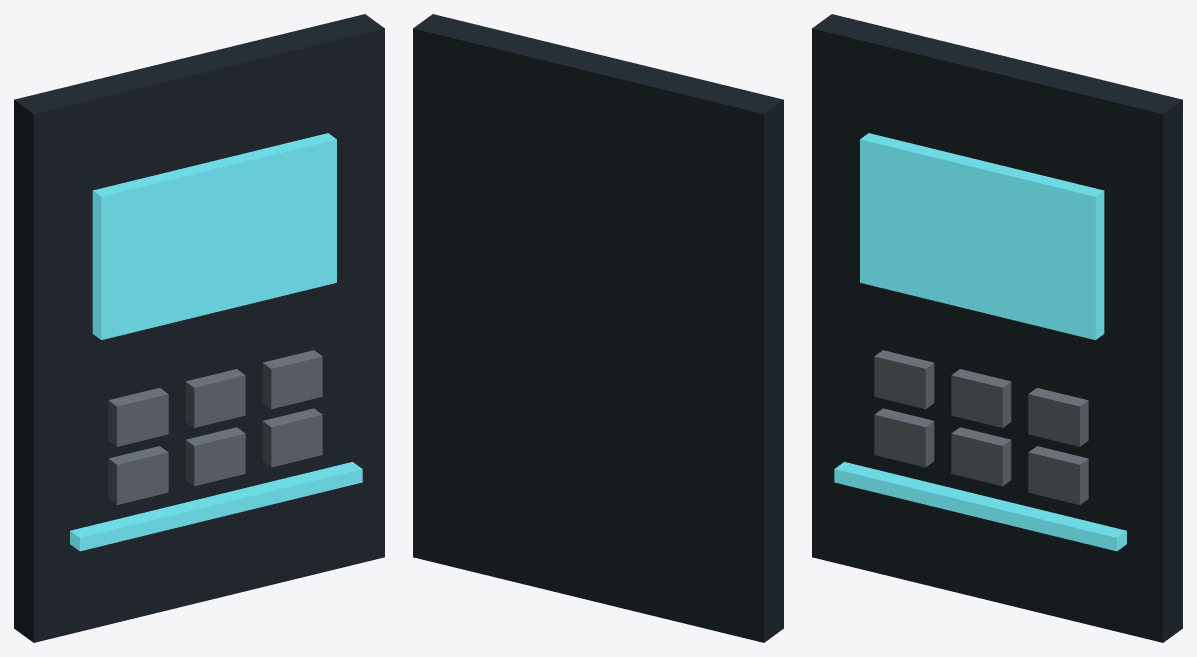
Rendered from hp_terminal_quiz_panel_cyan.glb.
3 renders of one model, left to right at view 1: azimuth 30°, elevation 25°; view 2: azimuth 150°, elevation 25°; view 3: azimuth 330°, elevation 25°, orthographic.
Visible parts, largest first — view 1: quiz_panel_backplate, quiz_panel_screen, quiz_panel_warning_rail, quiz_panel_input_1_1, quiz_panel_input_0_0, quiz_panel_input_0_1, quiz_panel_input_0_2, quiz_panel_input_1_2, quiz_panel_input_1_0; view 2: quiz_panel_backplate; view 3: quiz_panel_backplate, quiz_panel_screen, quiz_panel_warning_rail, quiz_panel_input_1_1, quiz_panel_input_0_0, quiz_panel_input_0_1, quiz_panel_input_0_2, quiz_panel_input_1_0, quiz_panel_input_1_2.
Boxes of the visible parts, x1,y1,x2,y2 form: quiz_panel_backplate: [14, 14, 384, 642]; quiz_panel_screen: [92, 133, 336, 339]; quiz_panel_warning_rail: [70, 462, 362, 551]; quiz_panel_input_1_1: [185, 427, 245, 486]; quiz_panel_input_0_0: [108, 387, 168, 446]; quiz_panel_input_0_1: [185, 369, 245, 427]; quiz_panel_input_0_2: [262, 350, 322, 409]; quiz_panel_input_1_2: [262, 408, 322, 467]; quiz_panel_input_1_0: [108, 446, 168, 504]; quiz_panel_backplate: [413, 14, 783, 642]; quiz_panel_backplate: [812, 14, 1182, 642]; quiz_panel_screen: [860, 133, 1104, 339]; quiz_panel_warning_rail: [834, 462, 1126, 551]; quiz_panel_input_1_1: [951, 427, 1011, 486]; quiz_panel_input_0_0: [874, 350, 934, 409]; quiz_panel_input_0_1: [951, 369, 1011, 427]; quiz_panel_input_0_2: [1028, 387, 1088, 446]; quiz_panel_input_1_0: [874, 408, 934, 467]; quiz_panel_input_1_2: [1028, 446, 1088, 504].
Size of the model in its own units: 0.82 by 1.18 by 0.128.
